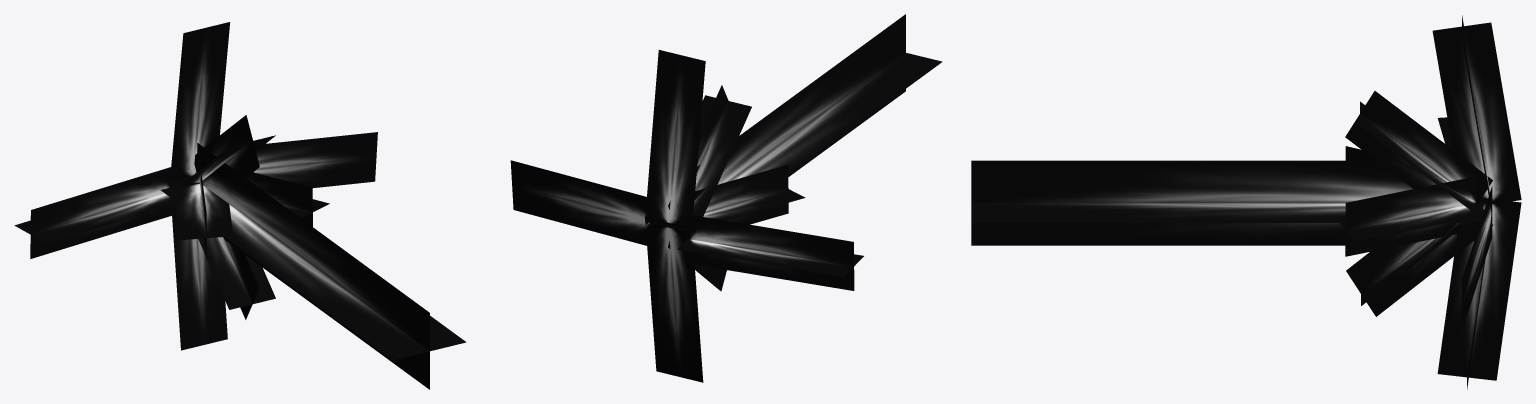
File: Bullet_5_Mesh.FBX
The picture shows the model from 3 angles, left to right: view 1: azimuth 30°, elevation 25°; view 2: azimuth 150°, elevation 25°; view 3: azimuth 270°, elevation 25°; orthographic projection. The views are drawn at different scales.
Visible parts, largest first — view 1: Bullet_5_Mesh; view 2: Bullet_5_Mesh; view 3: Bullet_5_Mesh.
Part boxes in pixels (bbox=[...]): Bullet_5_Mesh: bbox=[14, 22, 466, 389]; Bullet_5_Mesh: bbox=[510, 14, 942, 382]; Bullet_5_Mesh: bbox=[971, 15, 1521, 389].
Size of the model in its own units: 170 by 151 by 210.
